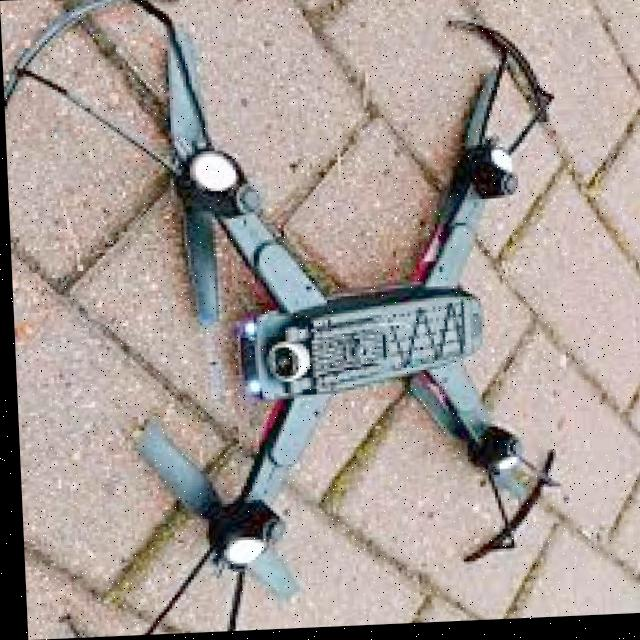drone: (58, 0, 559, 610)
